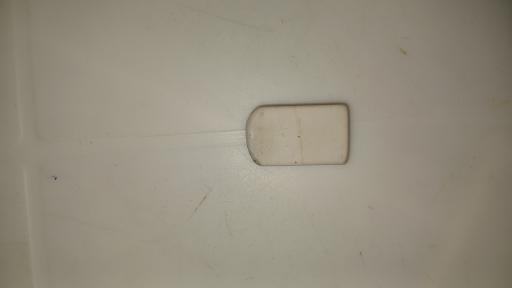Eraser: (244, 103, 352, 168)
